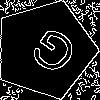G: (20, 25, 82, 85)
